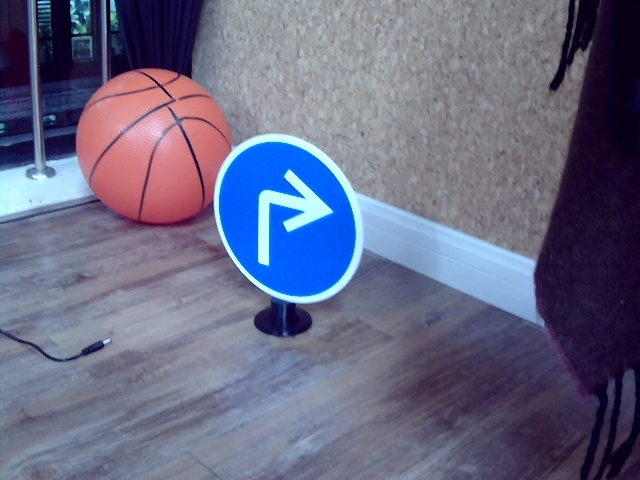turn_right: (243, 175, 330, 271)
